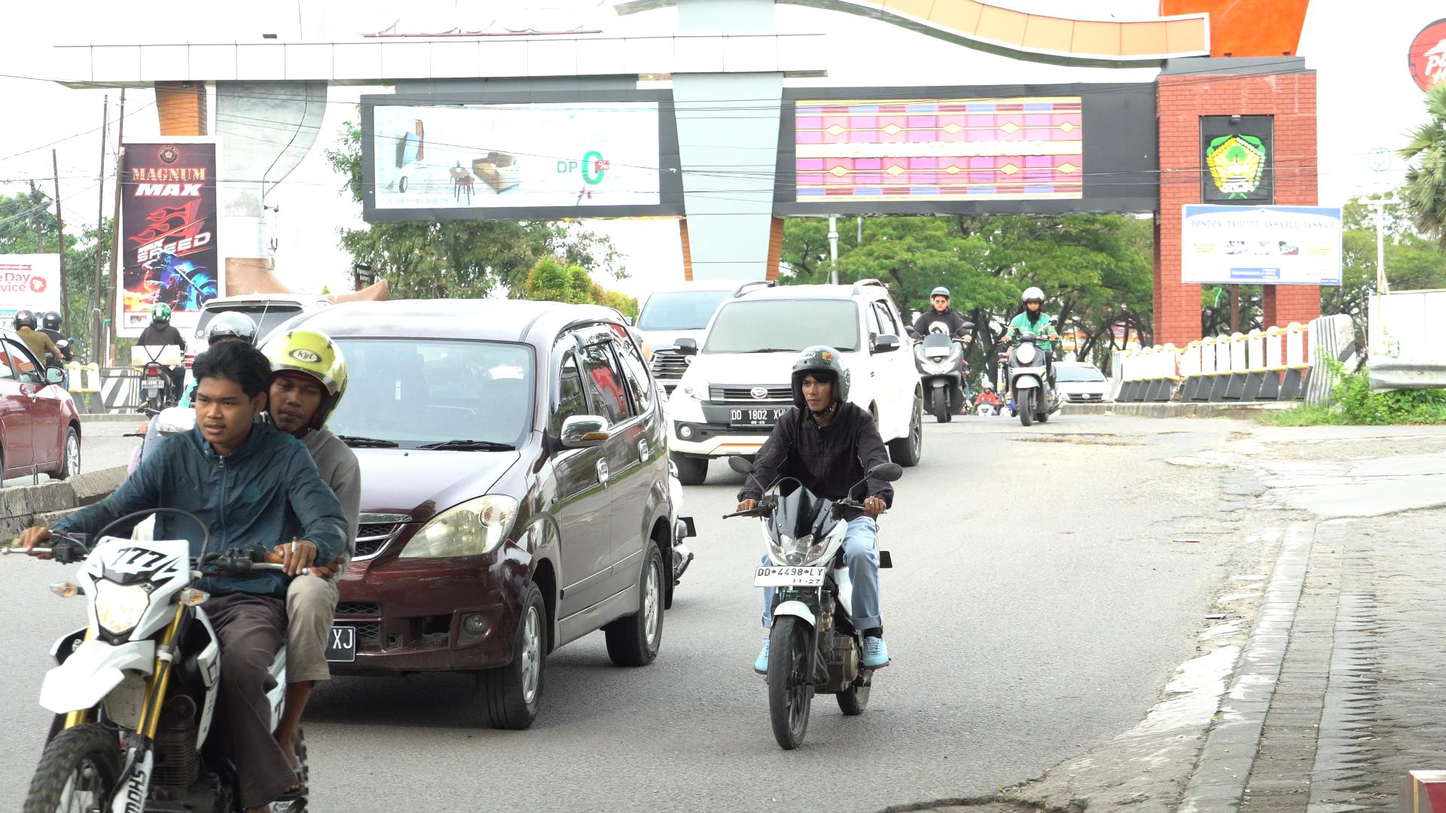number-plate: (753, 556, 824, 588)
